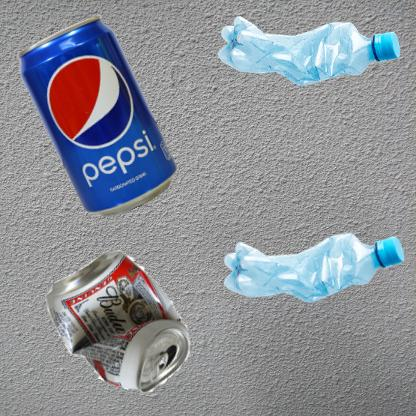botella: (213, 213, 416, 326), (213, 10, 406, 89)
lata: (10, 10, 225, 284), (10, 213, 272, 416)
